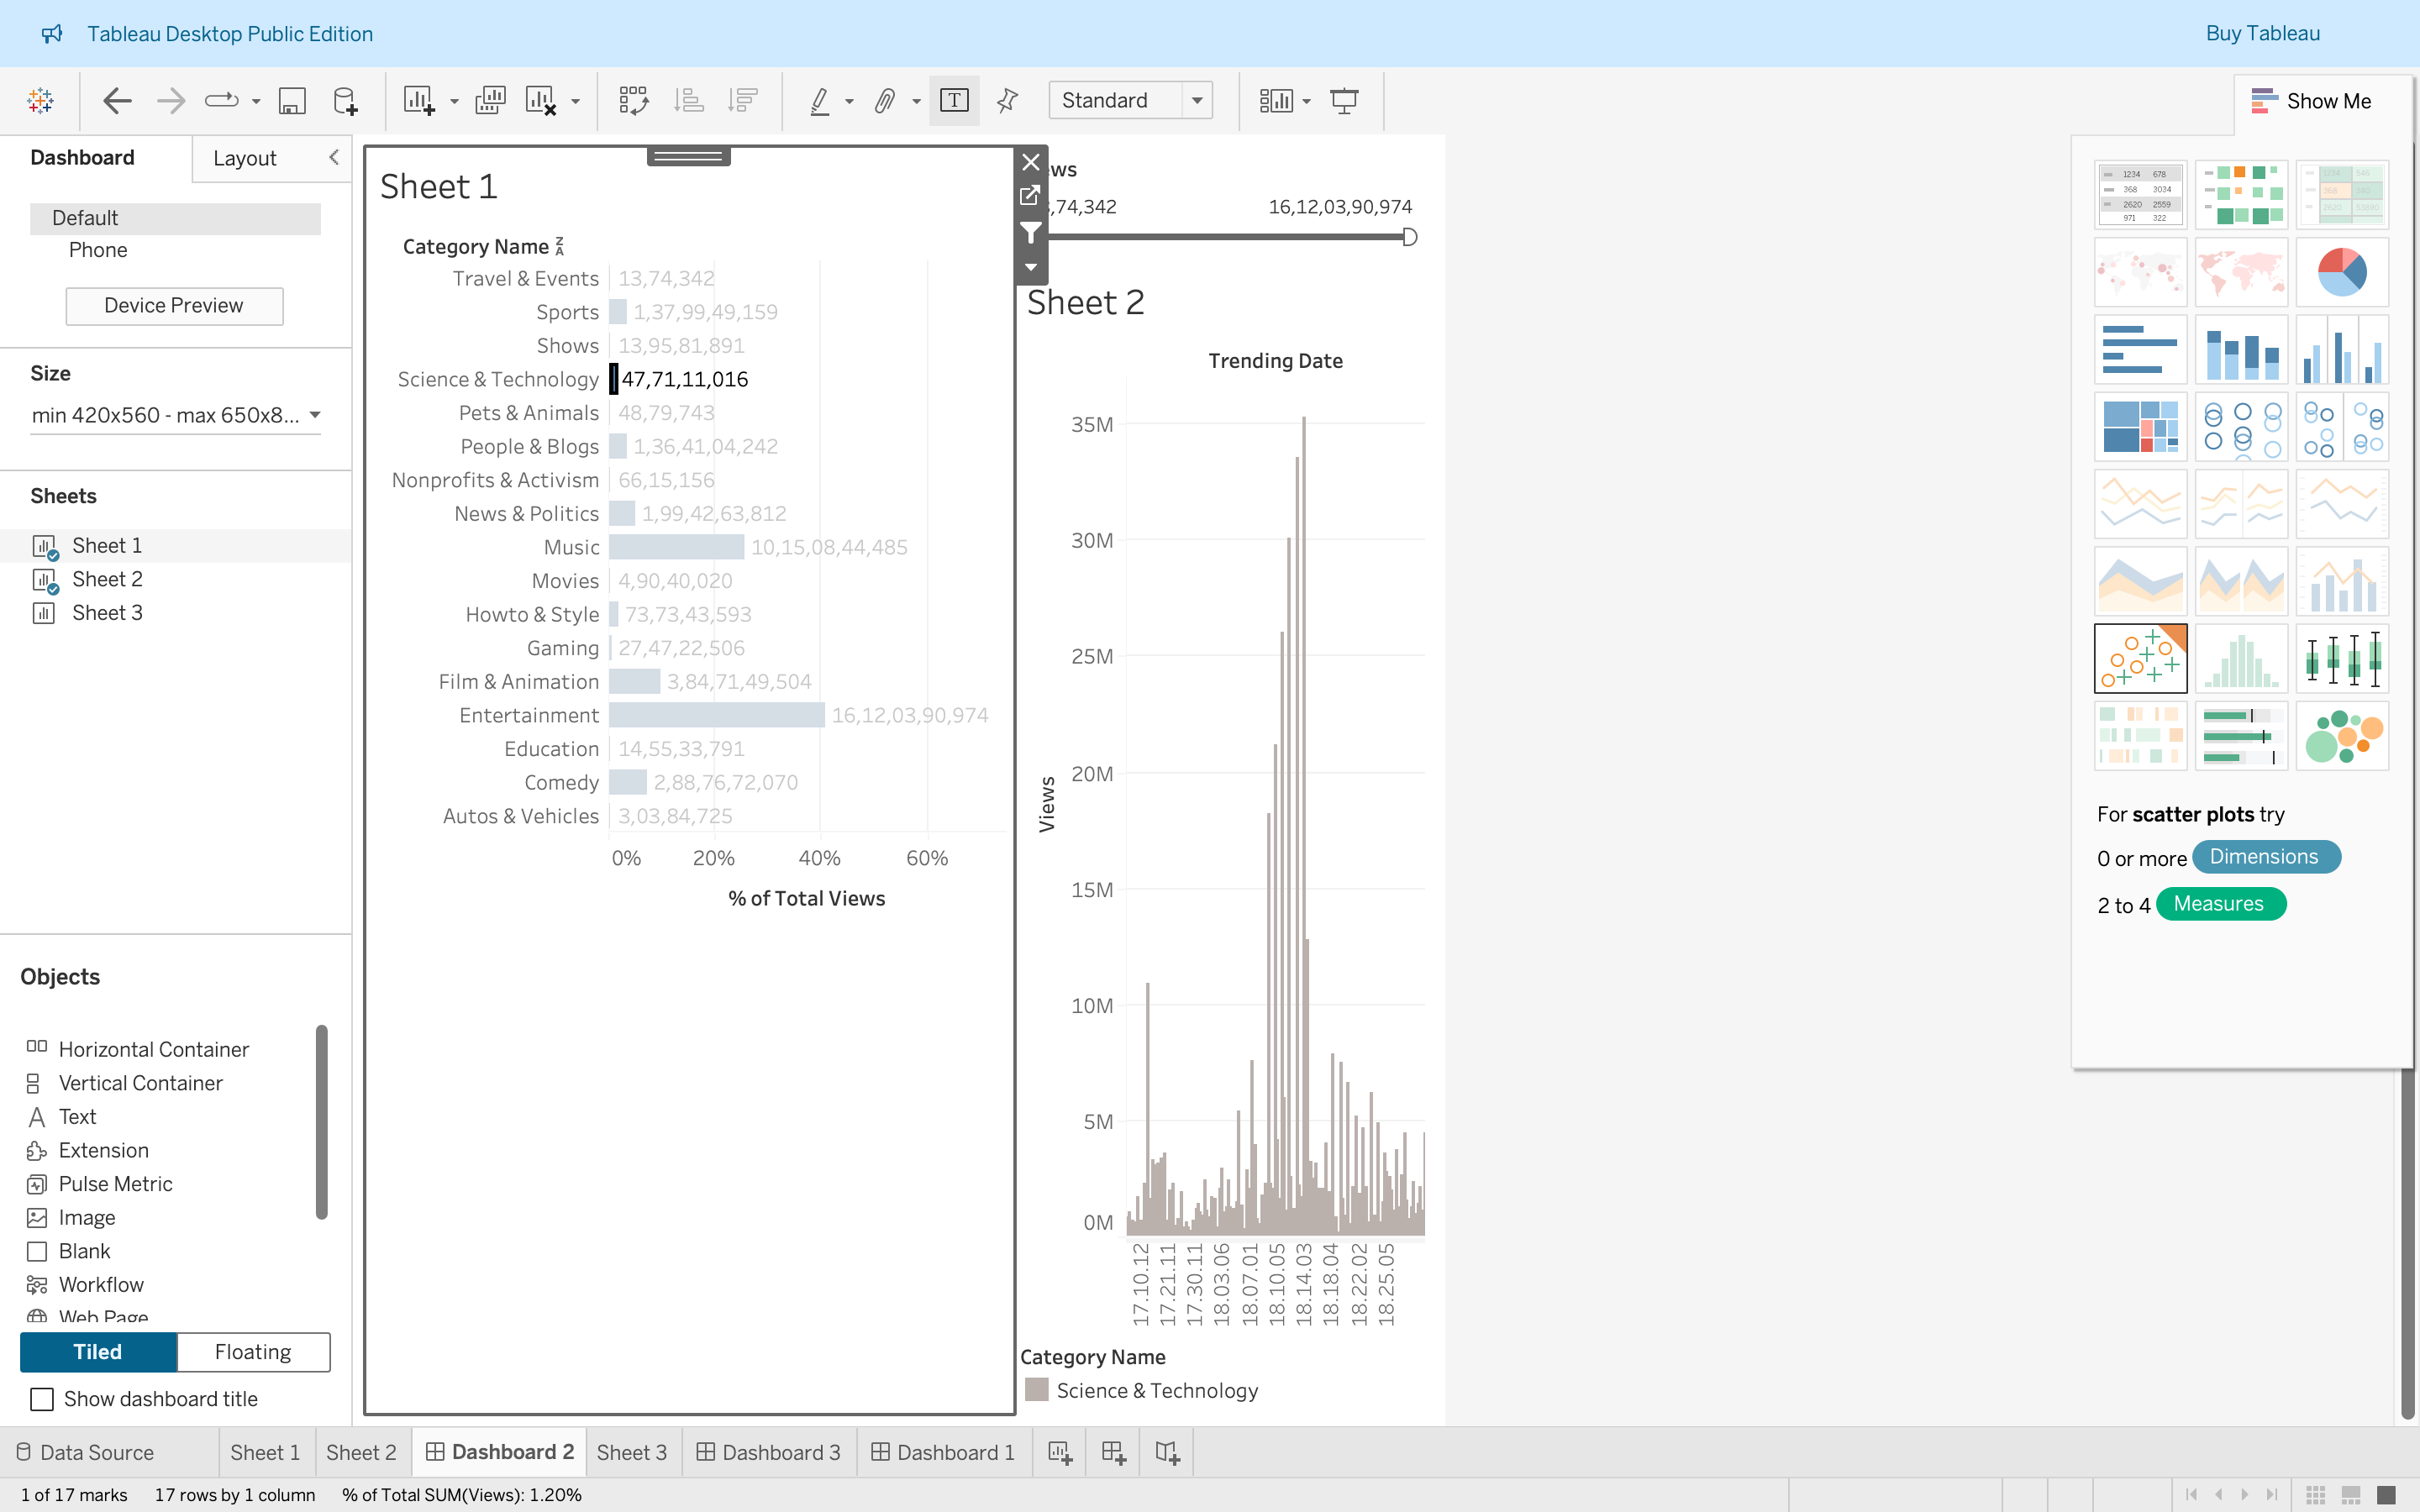

The page's visual inventory and layout, read from the dashboard file:
{"tool":"tableau","page":{"name":"Dashboard 2","canvas":[650,860],"ordinal":1},"visuals":[{"type":"worksheet","title":"Sheet 1","mark":"Automatic","rows":["Calculation_3737424807312752640"],"cols":["views"],"box":[8,10.5,474,839]},{"type":"filter","title":"Sheet 1","param":"[federated.0qo58f919a78ac176hxxe0yr6yr9].[sum:views:qk]","box":[482,10.5,160,90.5]},{"type":"worksheet","title":"Sheet 2","mark":"Automatic","rows":["views"],"cols":["trending_date"],"box":[482,101,160,268.7]},{"type":"legend","title":"Sheet 2","param":"[federated.0qo58f919a78ac176hxxe0yr6yr9].[none:Calculation_3737424807312752640:n","box":[482,369.7,160,479.8]}]}

Visuals, with their boxes on the page's 650x860 design canvas (x1, y1, x2, y2). These are canvas units, not pixel positions in the 2420x1512 screenshot, which may show the page scaled, cropped or inside an application window:
"Sheet 1" worksheet: [x1=8, y1=10, x2=482, y2=850]
"Sheet 1" filter: [x1=482, y1=10, x2=642, y2=101]
"Sheet 2" worksheet: [x1=482, y1=101, x2=642, y2=370]
"Sheet 2" legend: [x1=482, y1=370, x2=642, y2=850]
